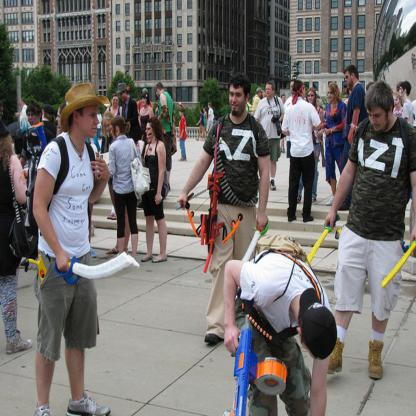face: (299, 325, 322, 361), (80, 101, 100, 138), (367, 104, 388, 132), (230, 90, 246, 115), (56, 112, 66, 129), (29, 112, 39, 127), (111, 125, 119, 140), (105, 123, 115, 135), (146, 125, 153, 139), (308, 93, 316, 104), (346, 74, 352, 86), (329, 90, 335, 102), (120, 91, 126, 102), (397, 89, 403, 99), (267, 88, 273, 98), (292, 85, 297, 96), (113, 98, 119, 107), (394, 98, 399, 108), (400, 88, 405, 97), (303, 86, 306, 98), (143, 99, 148, 106), (157, 88, 160, 98), (315, 96, 319, 103), (180, 111, 184, 117), (260, 91, 263, 98), (20, 101, 23, 108), (283, 97, 286, 103), (204, 110, 207, 113), (209, 105, 211, 109), (201, 111, 203, 114)
